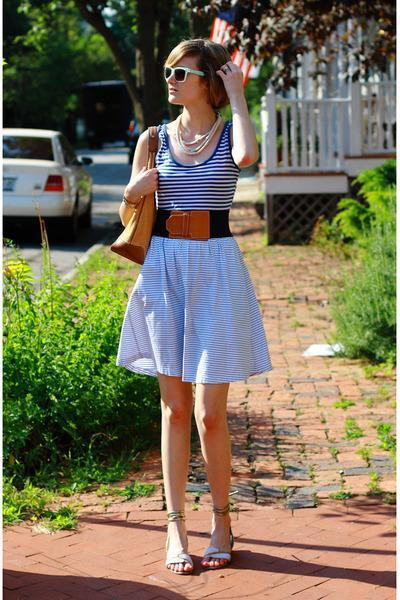bag: (113, 129, 162, 264)
shirt: (140, 122, 247, 209)
shoe: (165, 540, 229, 564)
skirt: (116, 236, 271, 395)
